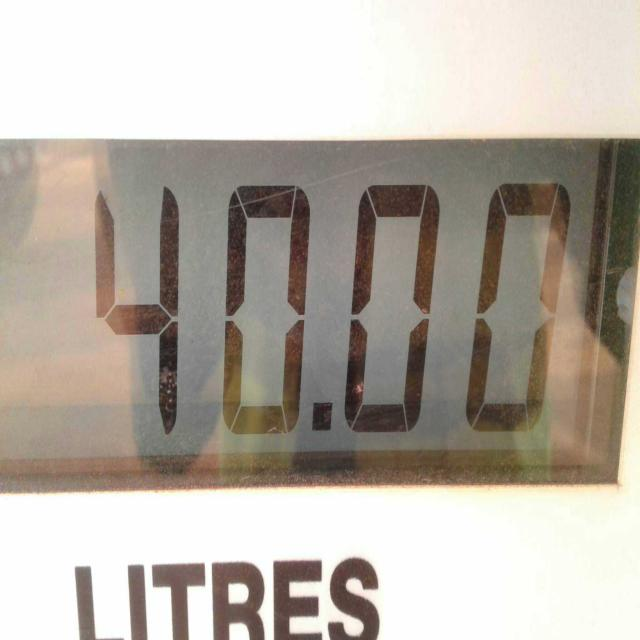.: (304, 368, 345, 471)
0: (339, 168, 458, 458), (200, 170, 318, 456), (459, 178, 577, 456)
4: (74, 176, 188, 452)
